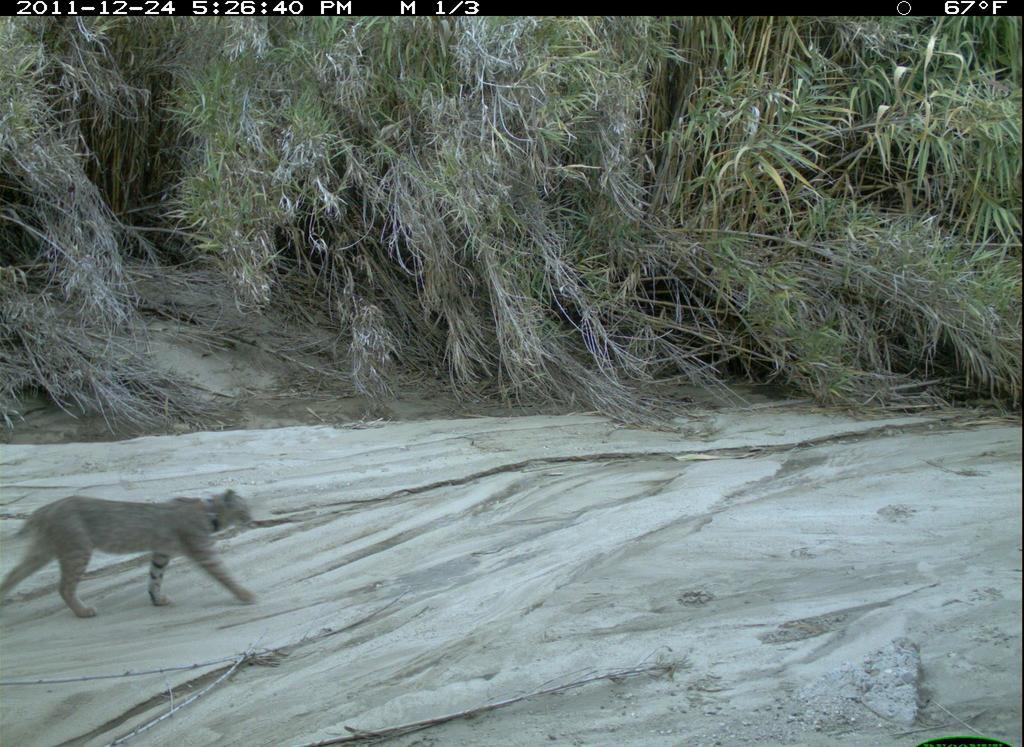bobcat: (4, 473, 263, 628)
